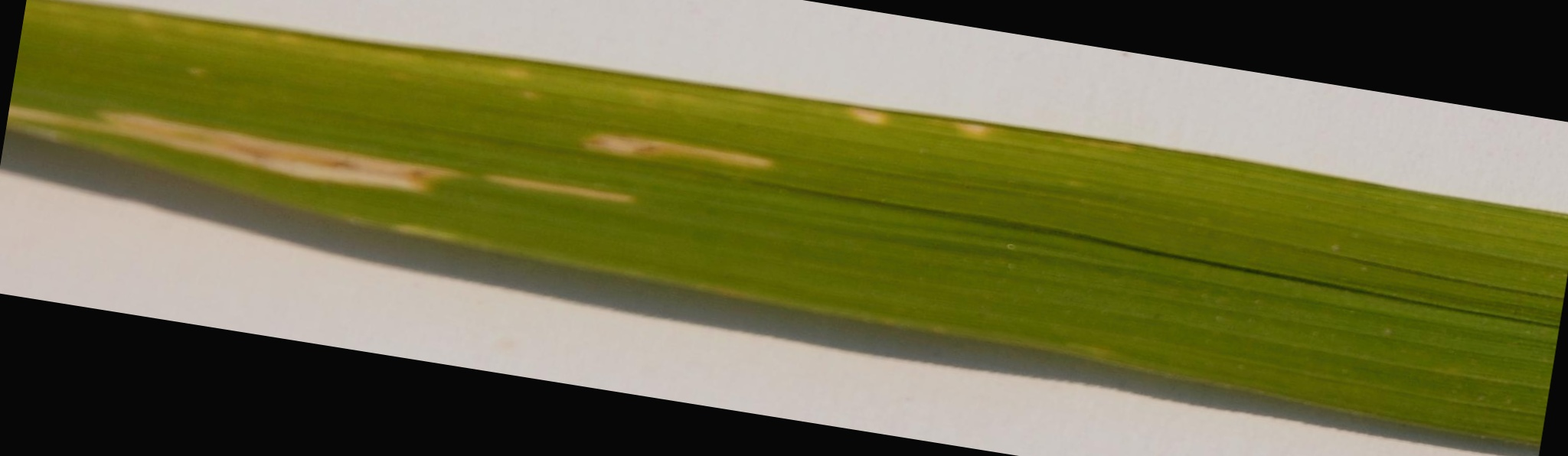Leaf_Blast: (61, 41, 1144, 149), (9, 117, 674, 227)
